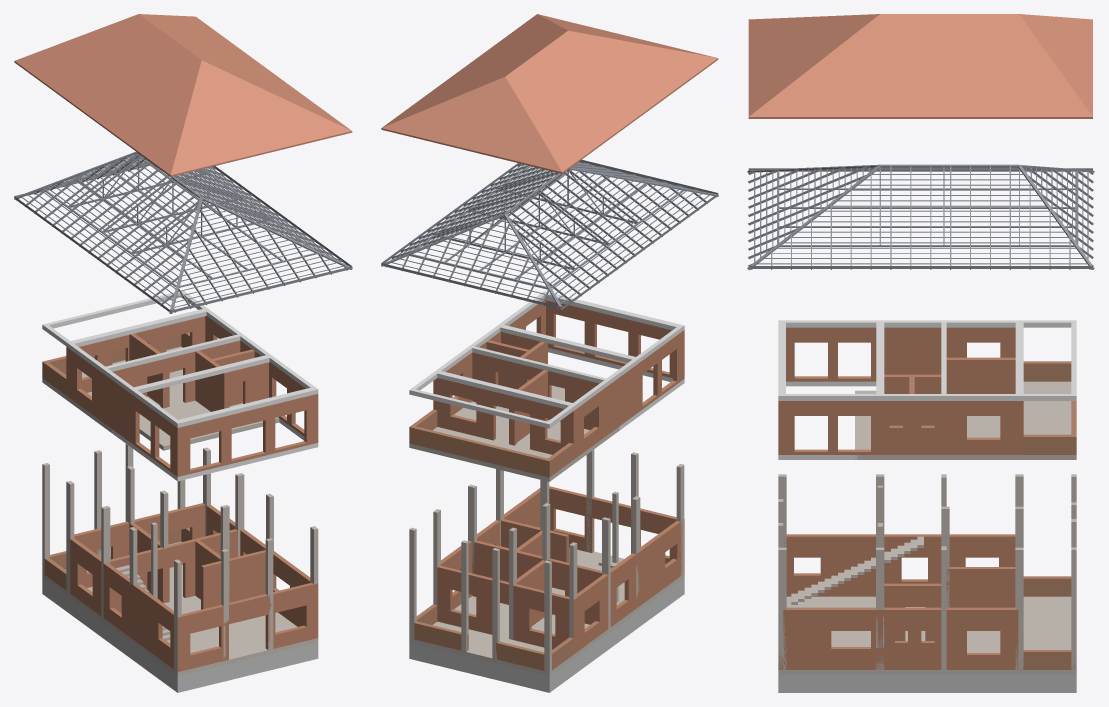
Rendered from konkan_house_exploded.glb.
The picture shows the model from 3 angles, left to right: view 1: azimuth 30°, elevation 25°; view 2: azimuth 150°, elevation 25°; view 3: azimuth 270°, elevation 25°; orthographic projection. The views are drawn at different scales.
Parts seen in each view (by area): view 1: Hip_Roof, Living_Kitchen_South, Plinth, Floor_Slab_0, Living_Kitchen_2_South, Living_Kitchen_West, Living_Kitchen_2_West, Workshop_South, Bedroom_1_West, Bathroom_1_South, Living_Kitchen_East, Staircase_Landing_West (+40 smaller); view 2: Hip_Roof, Plinth, Living_Kitchen_West, Floor_Slab_0, Living_Kitchen_South, Living_Kitchen_2_South, Upper_Verandah_North, Workshop_North, Floor_Slab_1, Bedroom_1_North, Bedroom_3_North, Bedroom_2_North (+40 smaller); view 3: Hip_Roof, Living_Kitchen_East, Floor_Slab_0, Living_Kitchen_West, Plinth, Workshop_East, Floor_Slab_1, Bedroom_3_East, Living_Kitchen_2_East, Bathroom_2_East, Living_Kitchen_2_West, Bedroom_1_East (+30 smaller).
Part boxes in pixels (left/top/right/bottom): Hip_Roof: left=14, top=14, right=352, bottom=176; Living_Kitchen_South: left=177, top=582, right=318, bottom=671; Plinth: left=42, top=578, right=318, bottom=692; Floor_Slab_0: left=42, top=541, right=318, bottom=676; Living_Kitchen_2_South: left=175, top=395, right=314, bottom=475; Living_Kitchen_West: left=103, top=562, right=173, bottom=669; Living_Kitchen_2_West: left=132, top=395, right=181, bottom=476; Workshop_South: left=164, top=529, right=238, bottom=602; Bedroom_1_West: left=69, top=538, right=101, bottom=615; Bathroom_1_South: left=229, top=550, right=265, bottom=602; Living_Kitchen_East: left=240, top=529, right=310, bottom=626; Staircase_Landing_West: left=102, top=373, right=132, bottom=443; Hip_Roof: left=381, top=14, right=718, bottom=173; Plinth: left=409, top=578, right=684, bottom=692; Living_Kitchen_West: left=610, top=521, right=681, bottom=626; Floor_Slab_0: left=409, top=548, right=684, bottom=676; Living_Kitchen_South: left=549, top=486, right=684, bottom=573; Living_Kitchen_2_South: left=546, top=299, right=684, bottom=378; Upper_Verandah_North: left=409, top=425, right=551, bottom=477; Workshop_North: left=437, top=565, right=508, bottom=634; Floor_Slab_1: left=409, top=401, right=619, bottom=481; Bedroom_1_North: left=513, top=584, right=575, bottom=654; Bedroom_3_North: left=433, top=378, right=510, bottom=443; Bedroom_2_North: left=509, top=395, right=575, bottom=459; Hip_Roof: left=748, top=14, right=1092, bottom=118; Living_Kitchen_East: left=783, top=607, right=941, bottom=669; Floor_Slab_0: left=778, top=596, right=1076, bottom=674; Living_Kitchen_West: left=784, top=534, right=941, bottom=596; Plinth: left=778, top=675, right=1076, bottom=692; Workshop_East: left=946, top=607, right=1018, bottom=669; Floor_Slab_1: left=921, top=381, right=1076, bottom=459; Bedroom_3_East: left=946, top=401, right=1018, bottom=454; Living_Kitchen_2_East: left=778, top=401, right=877, bottom=454; Bathroom_2_East: left=883, top=401, right=941, bottom=454; Living_Kitchen_2_West: left=786, top=327, right=876, bottom=381; Bedroom_1_East: left=946, top=567, right=1015, bottom=607.
Size of what is drawn, in the model's own units: 35.26 by 107 by 52.4.
